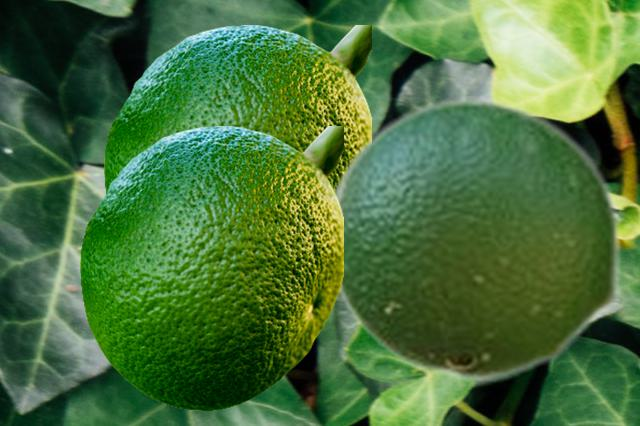dalandan: (332, 96, 622, 383), (80, 126, 342, 409), (104, 25, 370, 194)
